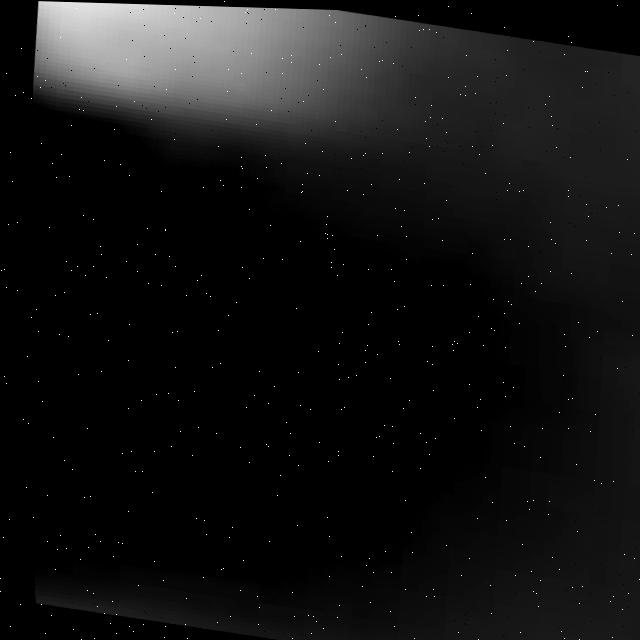person: (28, 2, 464, 142)
